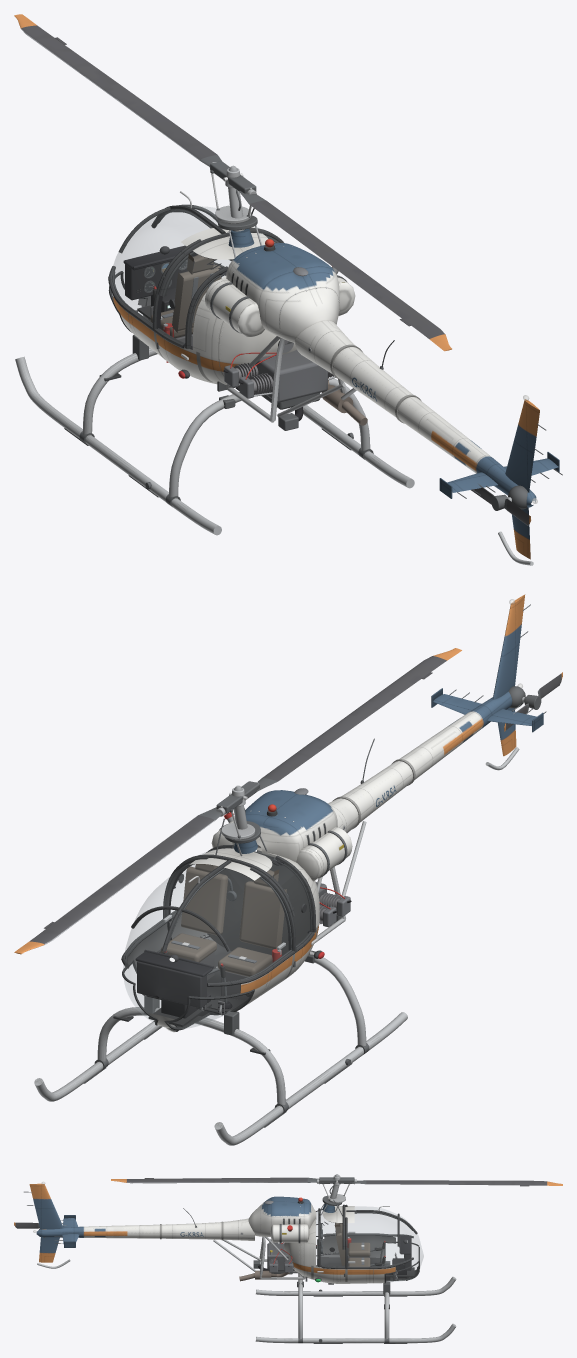
File: kestrel_k2.gltf
3 views of the same model, one above another, from view 1: azimuth 30°, elevation 25°; view 2: azimuth 150°, elevation 25°; view 3: azimuth 270°, elevation 25° (orthographic). The views are drawn at different scales.
Parts seen in each view (by area): view 1: body skin (game), blades skin (game), Canopy glass (game), door_l skin (game), Canopy glass (door).001 (game), Skid (view) (game), Instrument console (game), Seat back (game), Skid (view).001 (game), tail_rotor skin (game); view 2: body skin (game), Canopy glass (game), blades skin (game), door_l skin (game), Seat back (game), Instrument console (game), Seat back.001 (game), Canopy glass (door).001 (game), door_r skin (game), Rear bulkhead (game), Skid (view) (game), Seat cushion (game) (+5 smaller); view 3: body skin (game), Canopy glass (game), blades skin (game), door_r skin (game), Canopy glass (door) (game), Cabin lining (game), Skid (view).001 (game), Skid (view) (game), door_l skin (game), Seat cushion (game).
Boxes of the visible parts, x1,y1,x2,y2 form: body skin (game): (15,187,559,565); blades skin (game): (14,14,451,351); Canopy glass (game): (111,206,257,323); door_l skin (game): (153,249,226,380); Canopy glass (door).001 (game): (157,252,223,348); Skid (view) (game): (17,357,191,512); Instrument console (game): (125,255,196,300); Seat back (game): (178,264,221,330); Skid (view).001 (game): (303,405,383,468); tail_rotor skin (game): (471,484,531,525); body skin (game): (34,594,543,1145); Canopy glass (game): (123,851,291,1028); blades skin (game): (14,648,461,954); door_l skin (game): (267,857,316,978); Seat back (game): (239,881,284,949); Instrument console (game): (137,961,206,1008); Seat back.001 (game): (181,866,228,935); Canopy glass (door).001 (game): (268,862,312,946); door_r skin (game): (167,845,243,940); Rear bulkhead (game): (214,851,294,955); Skid (view) (game): (214,1034,380,1145); Seat cushion (game): (218,947,272,976); body skin (game): (29,1183,456,1343); Canopy glass (game): (316,1206,423,1281); blades skin (game): (111,1175,562,1202); door_r skin (game): (313,1221,346,1281); Canopy glass (door) (game): (316,1222,344,1266); Cabin lining (game): (317,1233,419,1280); Skid (view).001 (game): (284,1324,455,1343); Skid (view) (game): (284,1277,455,1295); door_l skin (game): (315,1208,339,1256); Seat cushion (game): (348,1242,370,1256).
Bounding box in the file's own units: 2.02 × 2.73 × 9.35.
48 materials, 5 textured.
